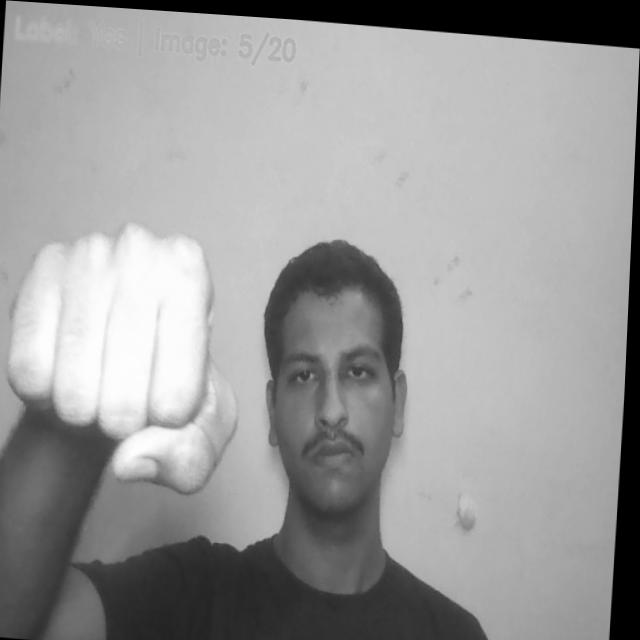Yes: (0, 208, 258, 496)
